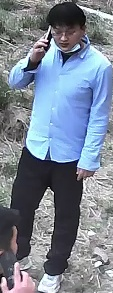phone: (8, 0, 88, 88)
